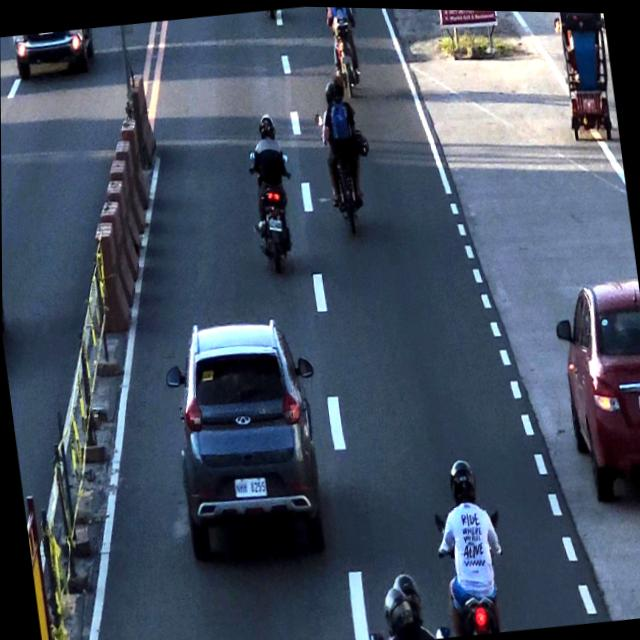Car: (161, 306, 330, 563), (549, 279, 640, 497)
License-Plate: (231, 471, 267, 499), (265, 212, 284, 234), (632, 380, 640, 418)
Motorcycle: (431, 441, 512, 635), (312, 78, 373, 241), (240, 117, 301, 274), (363, 559, 437, 640), (319, 6, 359, 78)
